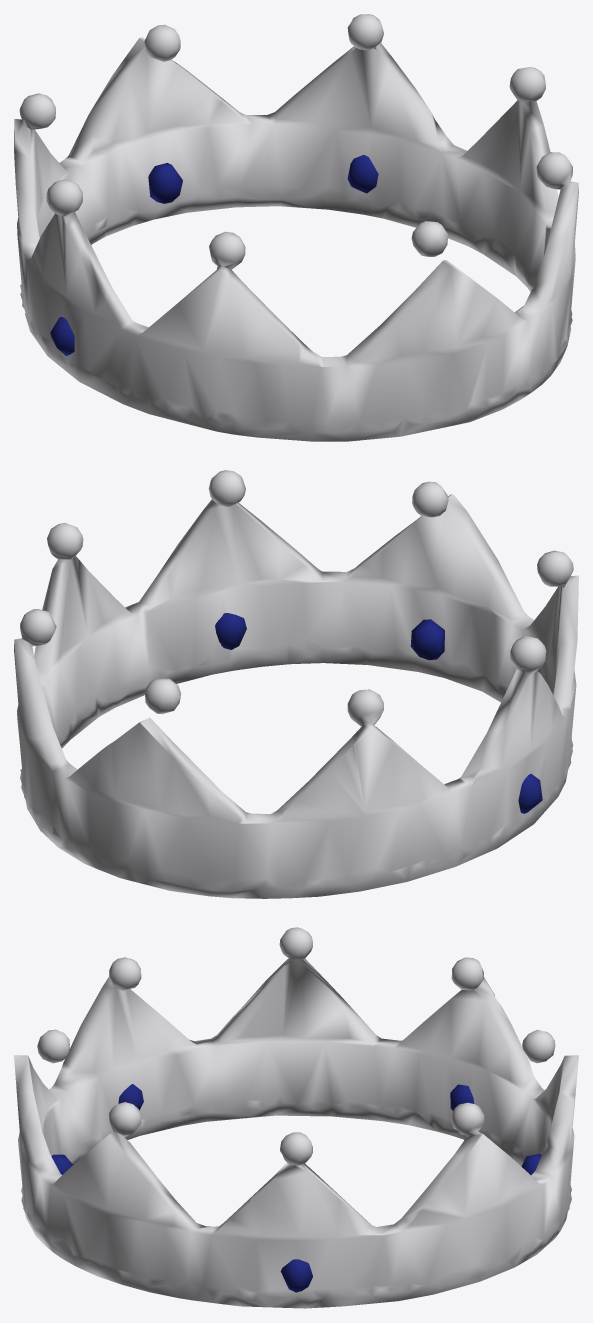
File: hat_crown.glb
The picture shows the model from 3 angles, top to bottom: view 1: azimuth 30°, elevation 25°; view 2: azimuth 150°, elevation 25°; view 3: azimuth 270°, elevation 25°; orthographic projection. The views are drawn at different scales.
Visible parts, largest first — view 1: hat_crown_0_metal, hat_crown_1_secondary; view 2: hat_crown_0_metal, hat_crown_1_secondary; view 3: hat_crown_0_metal, hat_crown_1_secondary.
Boxes of the visible parts, x1=… form: hat_crown_0_metal: x1=14, y1=14, x2=578, y2=441; hat_crown_1_secondary: x1=50, y1=155, x2=378, y2=355; hat_crown_0_metal: x1=14, y1=470, x2=578, y2=898; hat_crown_1_secondary: x1=215, y1=613, x2=542, y2=813; hat_crown_0_metal: x1=14, y1=927, x2=578, y2=1308; hat_crown_1_secondary: x1=51, y1=1084, x2=541, y2=1292.
Size of the model in its own units: 0.168 by 0.0632 by 0.1831.
